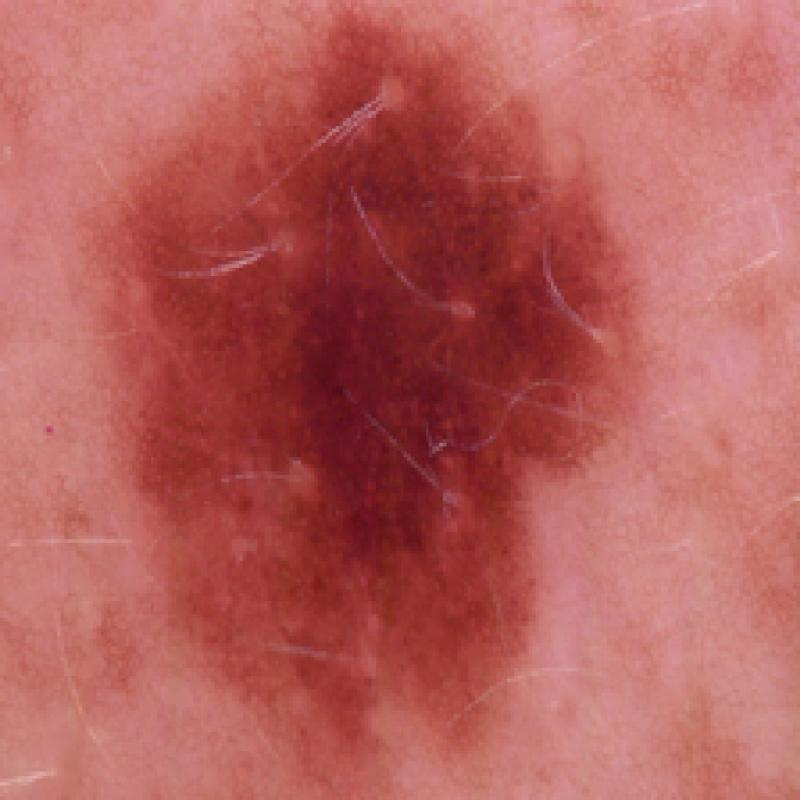benign: (80, 21, 732, 752)
